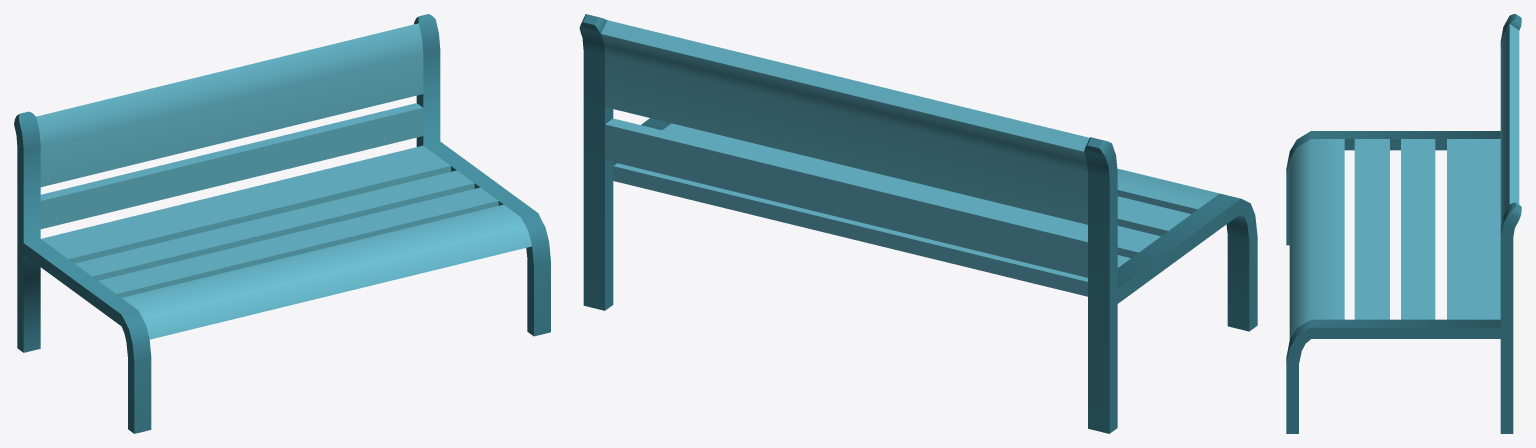
Rendered from bench03.fbx.
3 renders of one model, left to right at view 1: azimuth 30°, elevation 25°; view 2: azimuth 150°, elevation 25°; view 3: azimuth 270°, elevation 25°, orthographic. The views are drawn at different scales.
Parts seen in each view (by area): view 1: bench03; view 2: bench03; view 3: bench03.
Part boxes in pixels (x1=…): bench03: x1=14, y1=14, x2=550, y2=433; bench03: x1=579, y1=14, x2=1257, y2=433; bench03: x1=1286, y1=14, x2=1521, y2=433.
Bounding box in the file's own units: 209 × 111 × 105.
